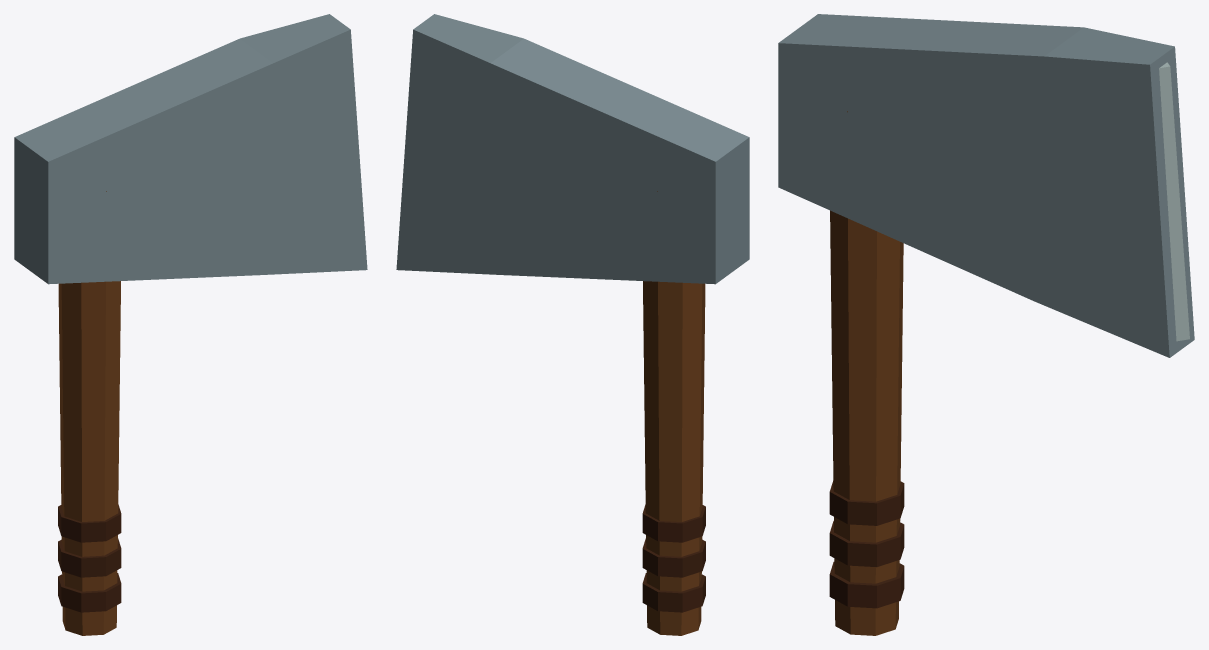
Rendered from AxeTool.fbx.
3 renders of one model, left to right at view 1: azimuth 30°, elevation 25°; view 2: azimuth 150°, elevation 25°; view 3: azimuth 330°, elevation 25°, orthographic. The views are drawn at different scales.
Parts seen in each view (by area): view 1: AxeTool_Mesh; view 2: AxeTool_Mesh; view 3: AxeTool_Mesh.
Part boxes in pixels (x1,y1,x2,y2): AxeTool_Mesh: (14, 14, 367, 635); AxeTool_Mesh: (396, 14, 749, 635); AxeTool_Mesh: (778, 14, 1194, 635).
Size of the model in its own units: 0.3979 by 0.62 by 0.07.
